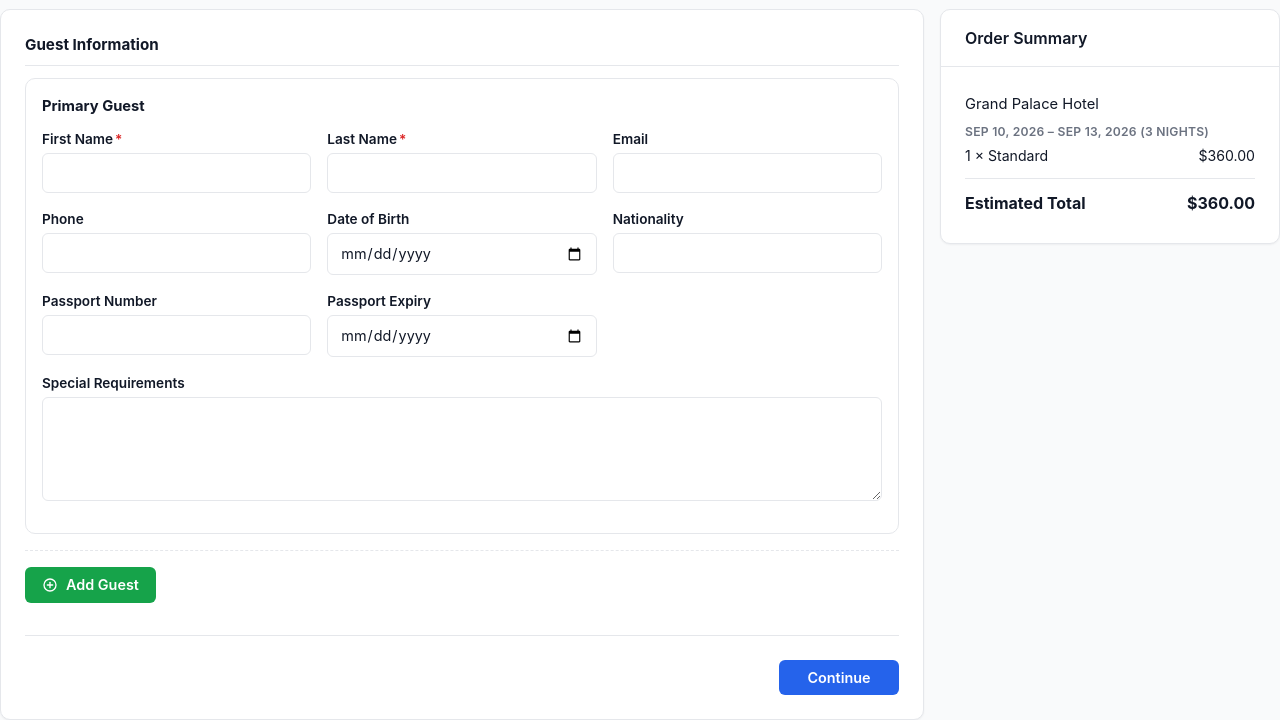
Test case: Checkout › blocks step 1 until every guest has a first and last name
(page scrolled)
Click the button "Continue" at (839, 677), box [779,660,899,695]
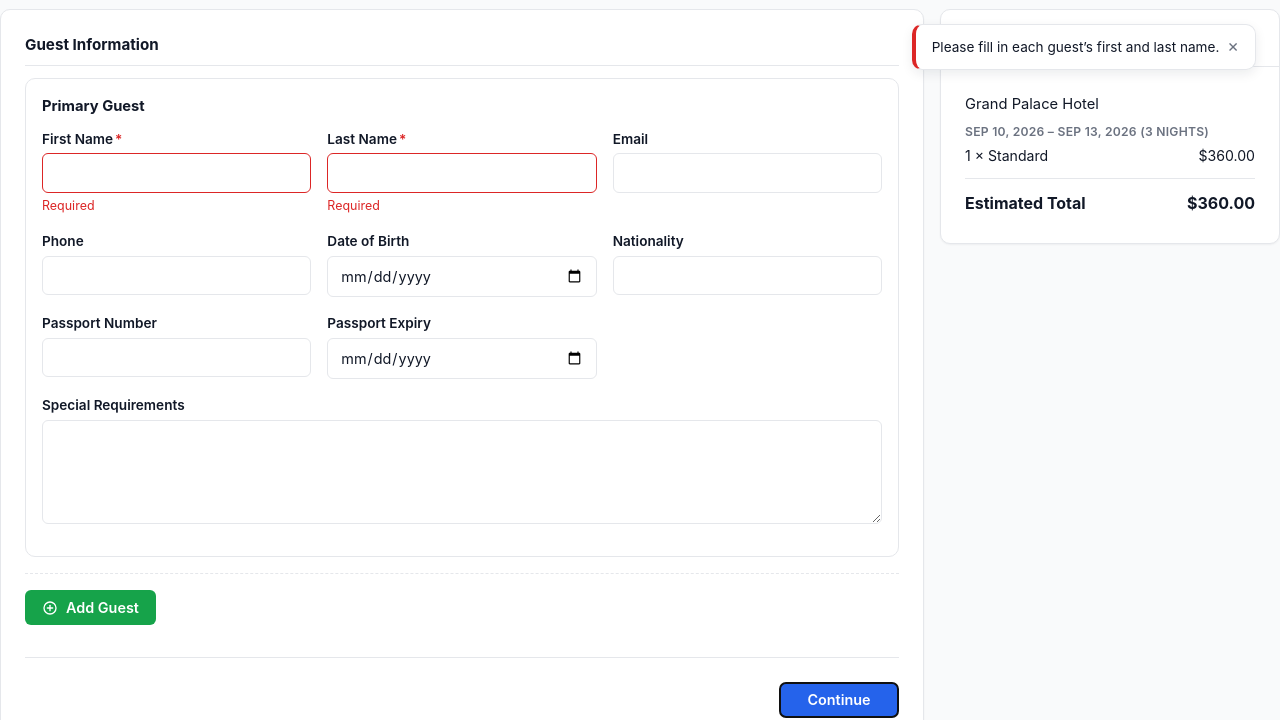
Expected: the heading "Guest Information" is shown, [25,34,899,66]
Result: the text "Please fill in each guest’s first and last name." is shown at [932,37,1219,57]
Result: the text "Required" is shown 2 times at [42,198,94,213]; [327,198,380,213]
